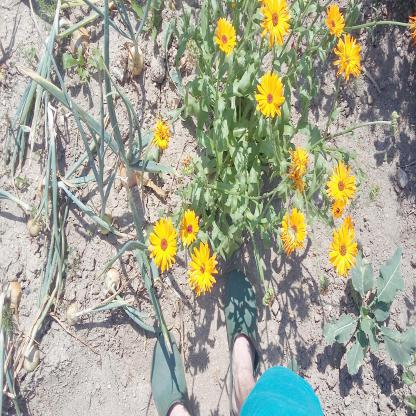marigold: (326, 222, 358, 277), (147, 217, 177, 272), (258, 0, 292, 48), (187, 241, 217, 295), (256, 70, 285, 122), (326, 160, 356, 210), (333, 32, 362, 83), (280, 206, 308, 252), (213, 14, 237, 54), (324, 2, 345, 40), (179, 208, 200, 245)
